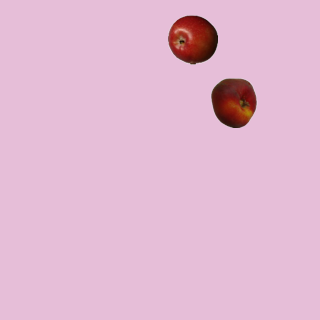Apple Braeburn: (167, 14, 217, 64)
Nectarine Flat: (208, 77, 258, 127)
